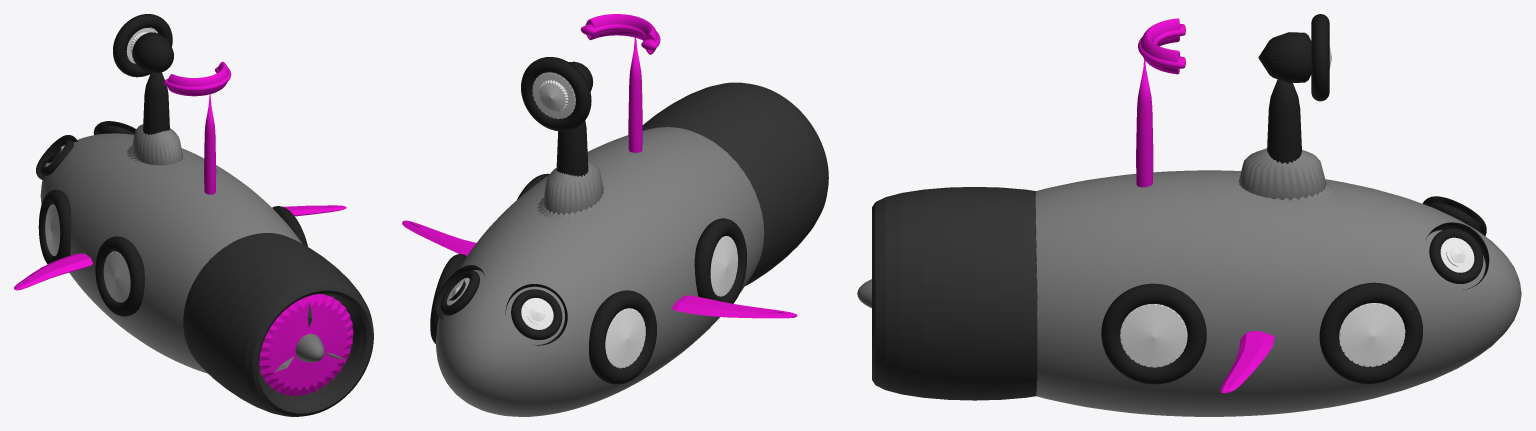
File: Versuch4 1.fbx
3 renders of one model, left to right at view 1: azimuth 30°, elevation 25°; view 2: azimuth 150°, elevation 25°; view 3: azimuth 270°, elevation 25°, orthographic. The views are drawn at different scales.
Visible parts, largest first — view 1: Korpus; view 2: Korpus; view 3: Korpus.
Part boxes in pixels (box(x1,y1,x2,y2)): Korpus: box(14, 14, 373, 416); Korpus: box(402, 14, 828, 416); Korpus: box(857, 14, 1521, 416).
Bounding box in the file's own units: 82.78 × 70.43 × 109.
